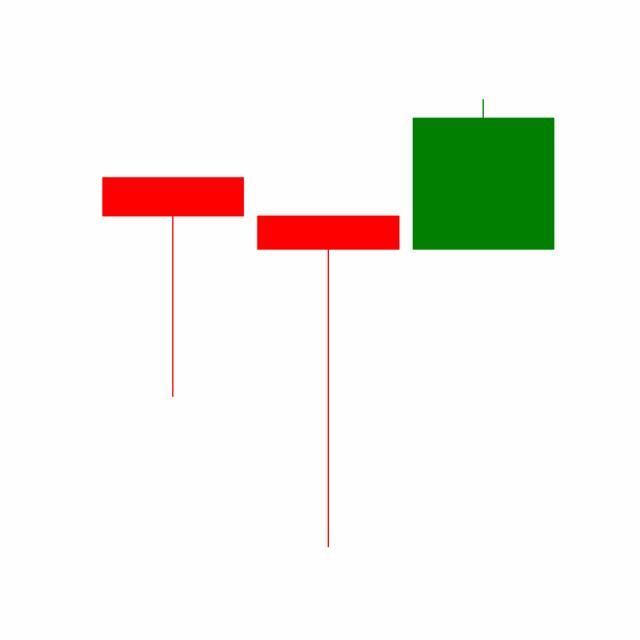Marubozu: (406, 98, 562, 252)
